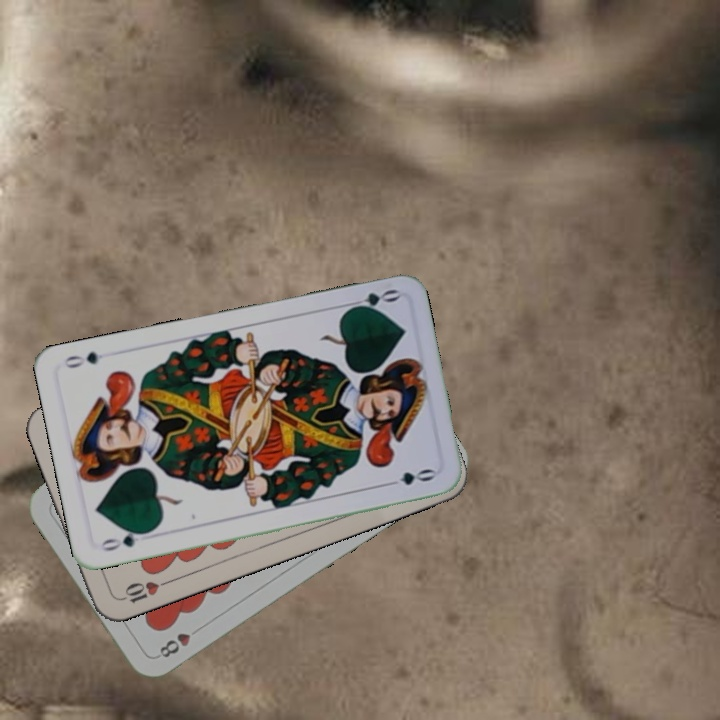GO: (342, 285, 401, 314), (95, 526, 153, 554)
H10: (114, 576, 172, 606)
H8: (155, 622, 205, 661)
